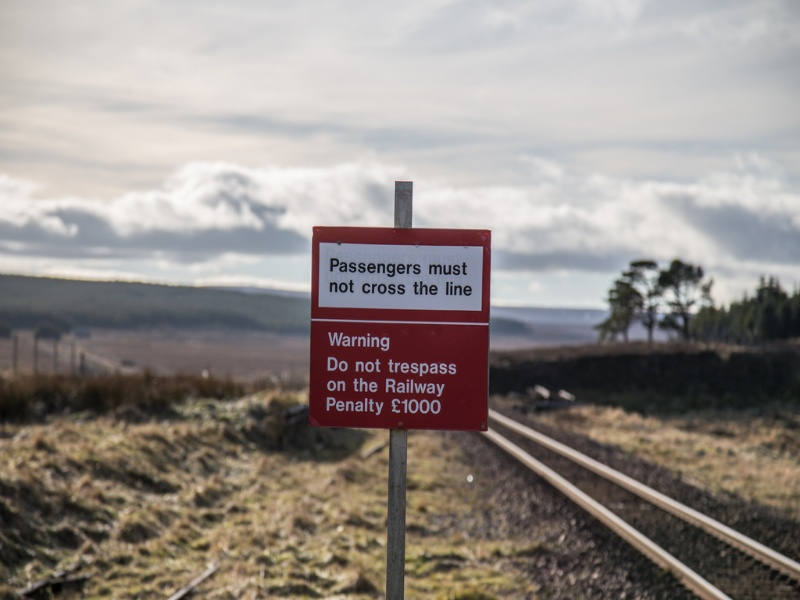no_cross_line: (313, 227, 489, 315)
warning: (307, 320, 497, 435)
